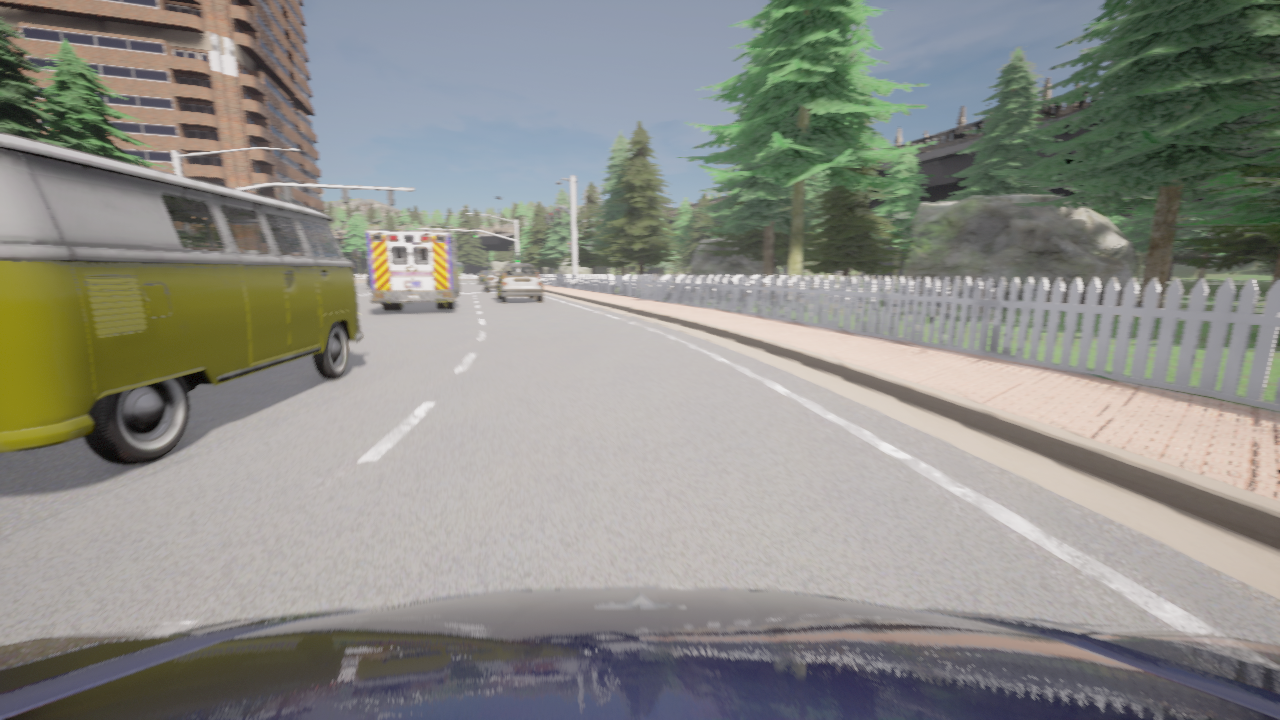cyclist: (0, 588, 1279, 719), (365, 230, 461, 311), (495, 264, 542, 302), (483, 270, 501, 291), (478, 270, 490, 284), (365, 271, 370, 288), (457, 273, 459, 293)
